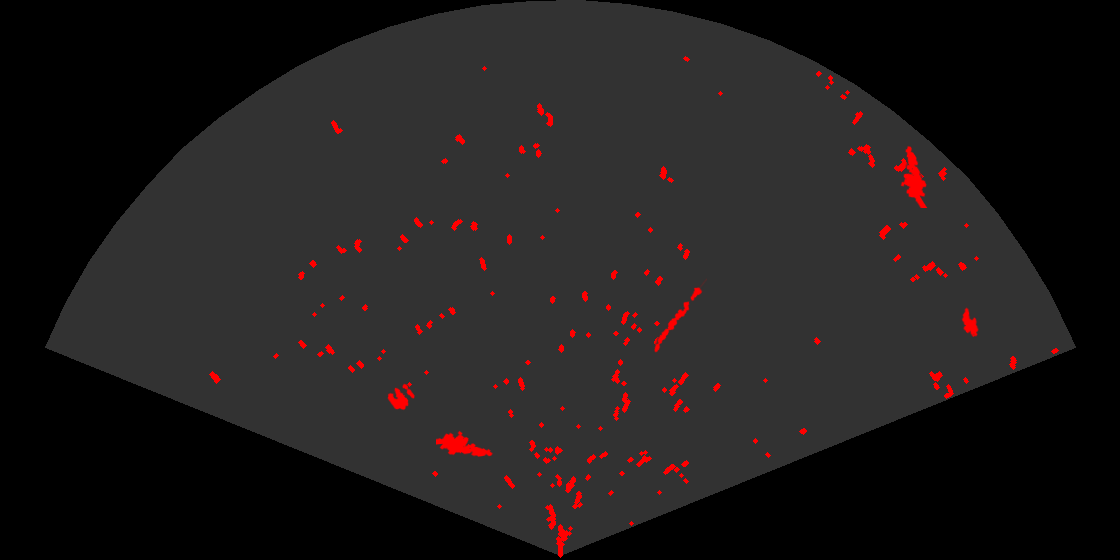AUV: (959, 306, 980, 339)
ball: (386, 382, 416, 412)
chain: (653, 277, 707, 354)
frogman: (899, 144, 929, 208), (436, 429, 494, 458)
